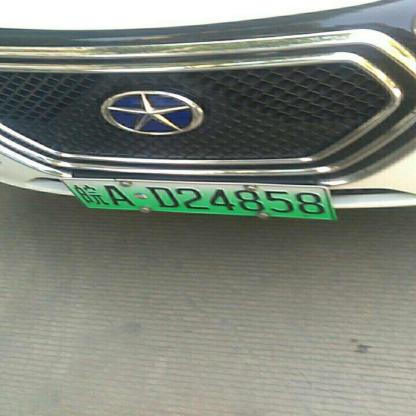lp: (61, 180, 334, 220)
